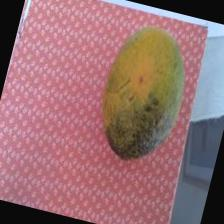Orange Rotten: (84, 12, 207, 169)
